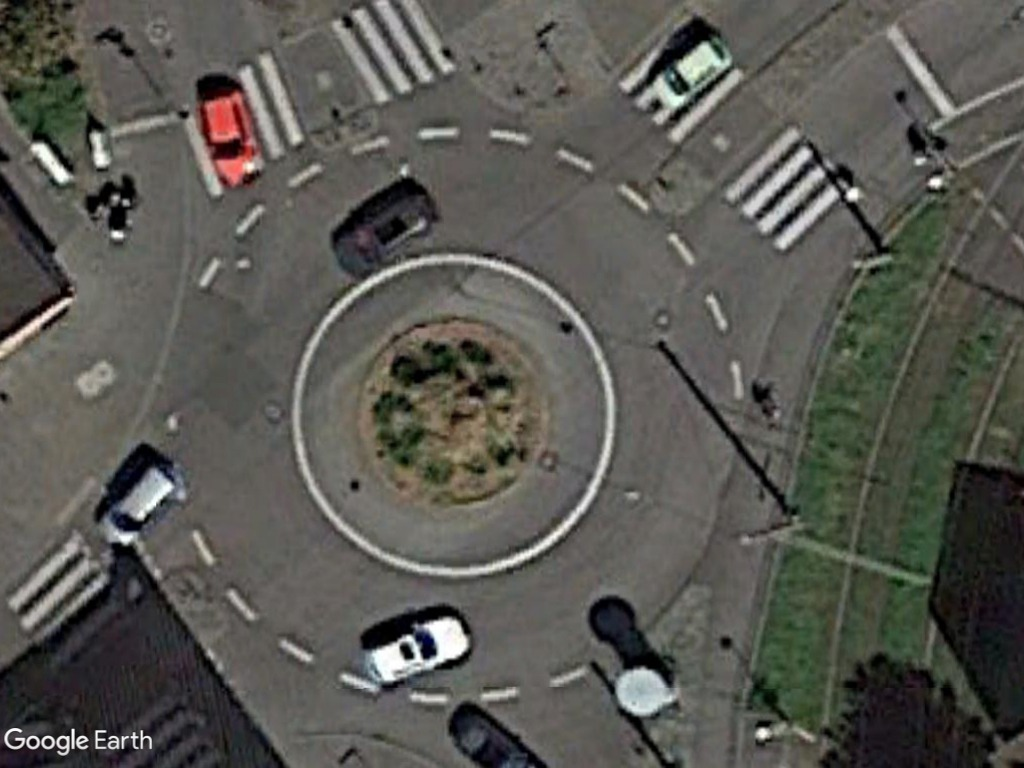car: (362, 614, 477, 691), (97, 455, 180, 550), (195, 84, 267, 193), (647, 32, 736, 115)
